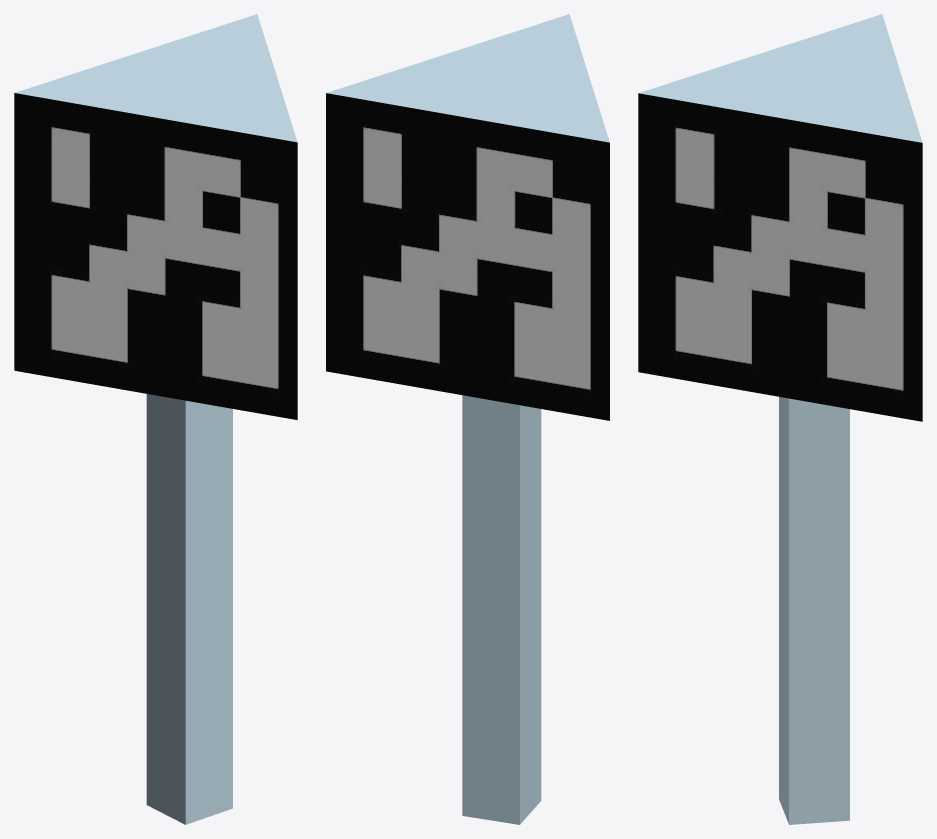
File: triangle_post.dae
The picture shows the model from 3 angles, left to right: view 1: azimuth 30°, elevation 25°; view 2: azimuth 150°, elevation 25°; view 3: azimuth 270°, elevation 25°; orthographic projection.
Parts seen in each view (by area): view 1: mesh3, mesh6, mesh0, mesh7; view 2: mesh2, mesh8, mesh0, mesh7; view 3: mesh1, mesh5, mesh0, mesh6.
Boxes of the visible parts, x1,y1,x2,y2 form: mesh3: (14,93,297,419); mesh6: (185,400,232,824); mesh0: (15,14,297,142); mesh7: (146,394,185,824); mesh2: (326,93,609,420); mesh8: (462,395,519,824); mesh0: (326,14,609,142); mesh7: (520,405,541,824); mesh1: (638,93,922,421); mesh5: (789,398,849,824); mesh0: (639,14,922,142); mesh6: (779,397,788,823).
Size of the model in its own units: 0.0504 by 0.0469 by 0.1323.
4 materials, 3 textured.
